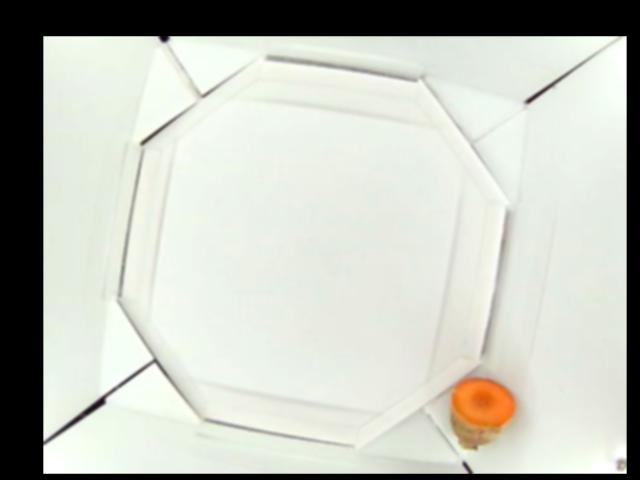Carrot: (448, 378, 515, 450)
